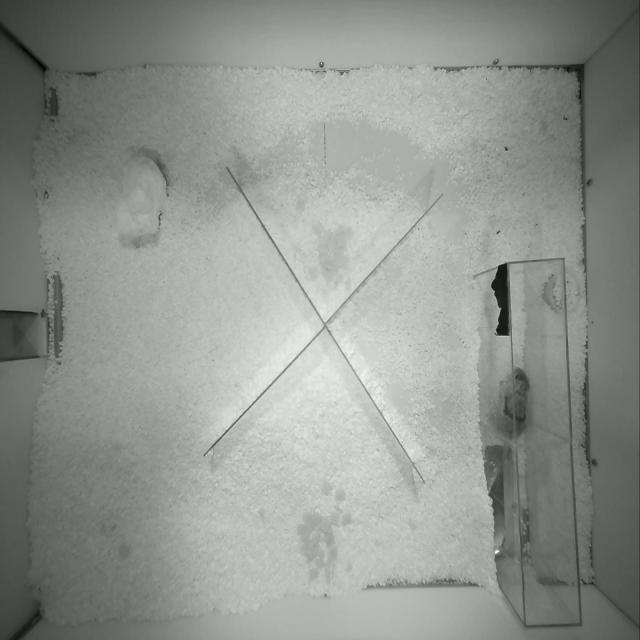adult_front: (490, 367, 530, 464)
